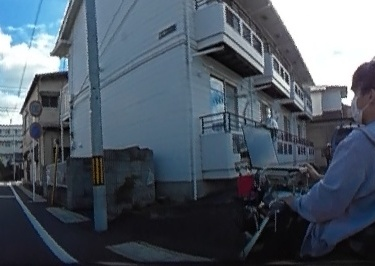person: (274, 60, 375, 250)
